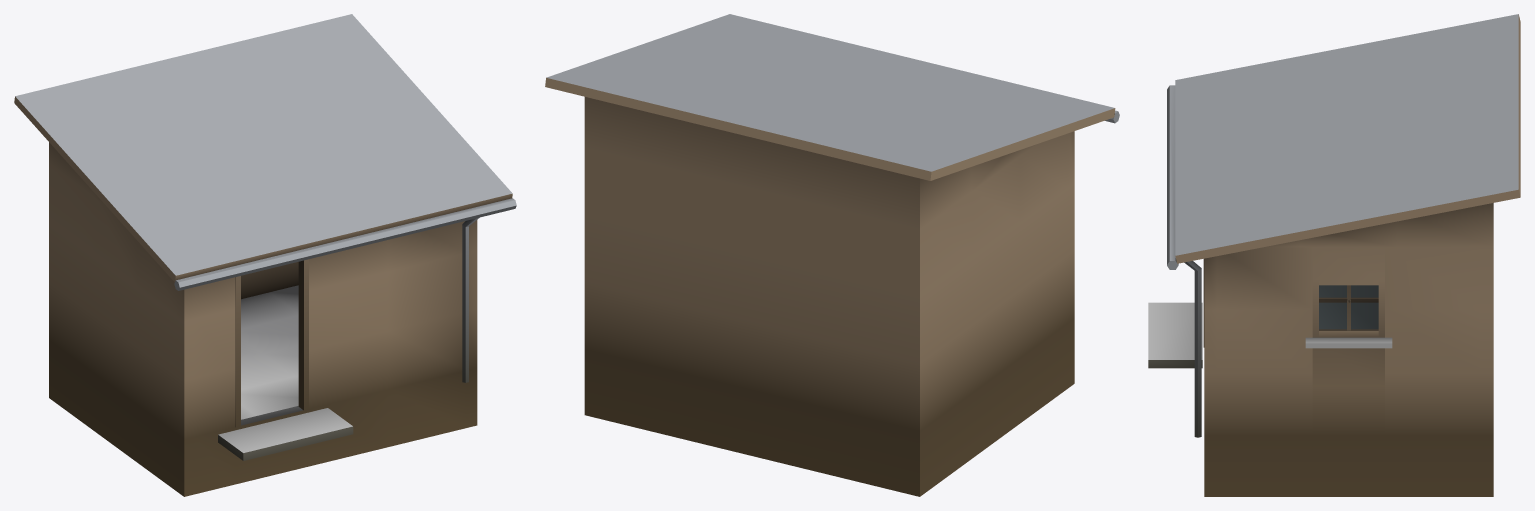
Rendered from shed.glb.
The picture shows the model from 3 angles, left to right: view 1: azimuth 30°, elevation 25°; view 2: azimuth 150°, elevation 25°; view 3: azimuth 270°, elevation 25°; orthographic projection. The views are drawn at different scales.
Visible parts, largest first — view 1: shed; view 2: shed; view 3: shed.
Part boxes in pixels (box(x1,y1,x2,y2)): shed: box(14, 14, 516, 496); shed: box(545, 14, 1119, 496); shed: box(1148, 14, 1520, 496).
Size of the model in its own units: 4.6 by 3.89 by 4.12.
